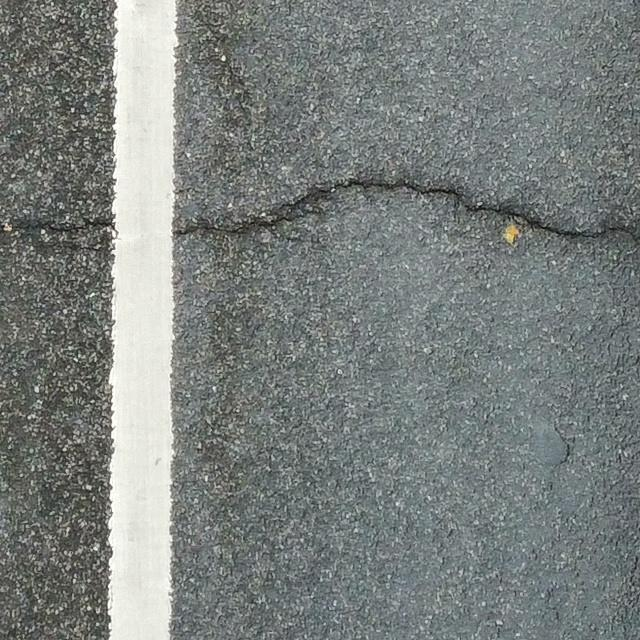TransverseCrack: (175, 177, 640, 241)
